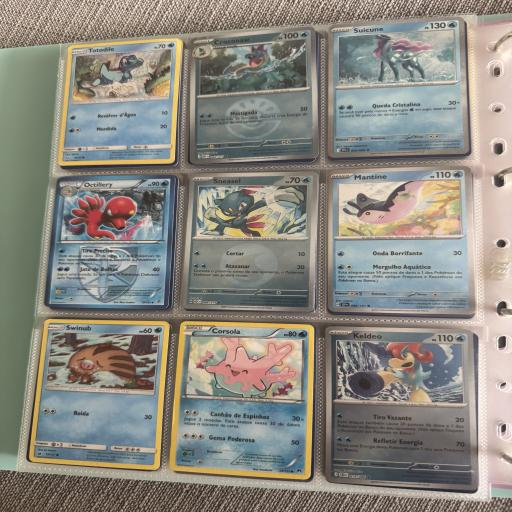card: (325, 326, 479, 490), (169, 317, 320, 479), (324, 165, 477, 319), (319, 16, 474, 164), (29, 313, 170, 470), (178, 26, 327, 170), (180, 168, 318, 312), (44, 172, 176, 309), (57, 36, 182, 167)
